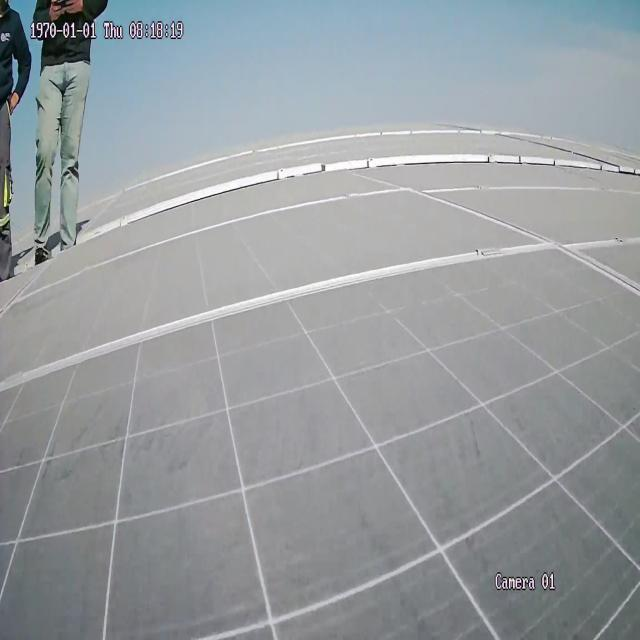interior panel: (3, 194, 635, 395)
